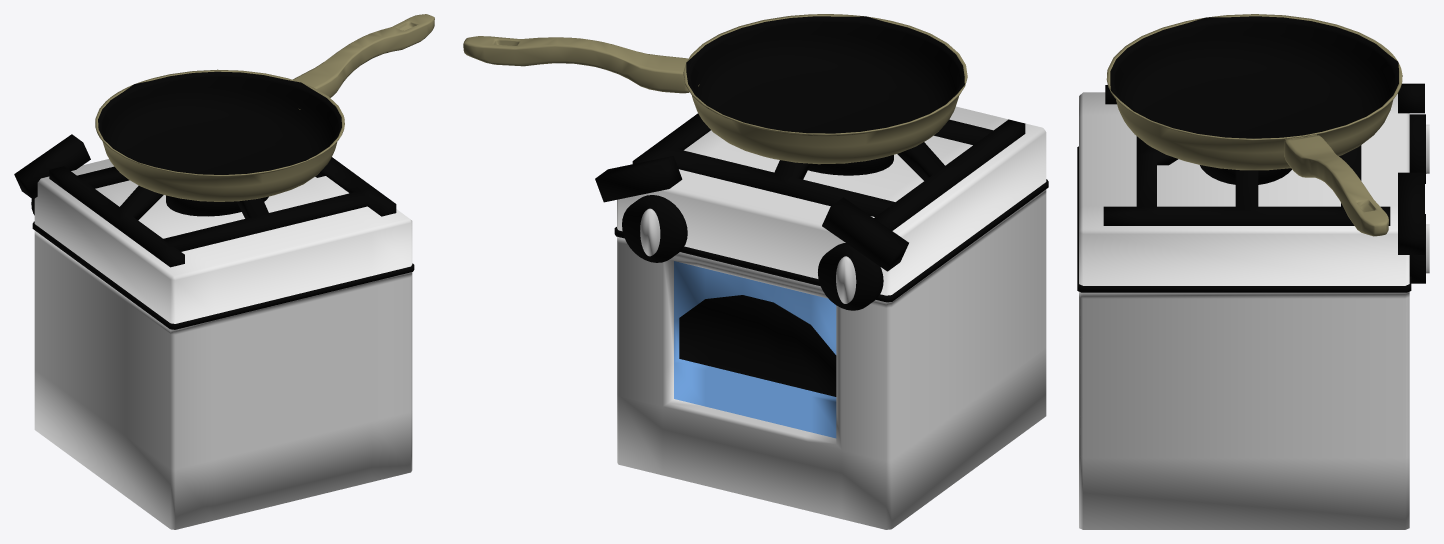
The model's file is pan.fbx.
The picture shows the model from 3 angles, left to right: view 1: azimuth 30°, elevation 25°; view 2: azimuth 150°, elevation 25°; view 3: azimuth 270°, elevation 25°; orthographic projection. The views are drawn at different scales.
Visible parts, largest first — view 1: Cube.110; view 2: Cube.110; view 3: Cube.110.
Part boxes in pixels (x1,y1,x2,y2): Cube.110: [14, 14, 434, 529]; Cube.110: [463, 14, 1048, 529]; Cube.110: [1077, 14, 1429, 529].
Size of the model in its own units: 268 by 214 by 173.
